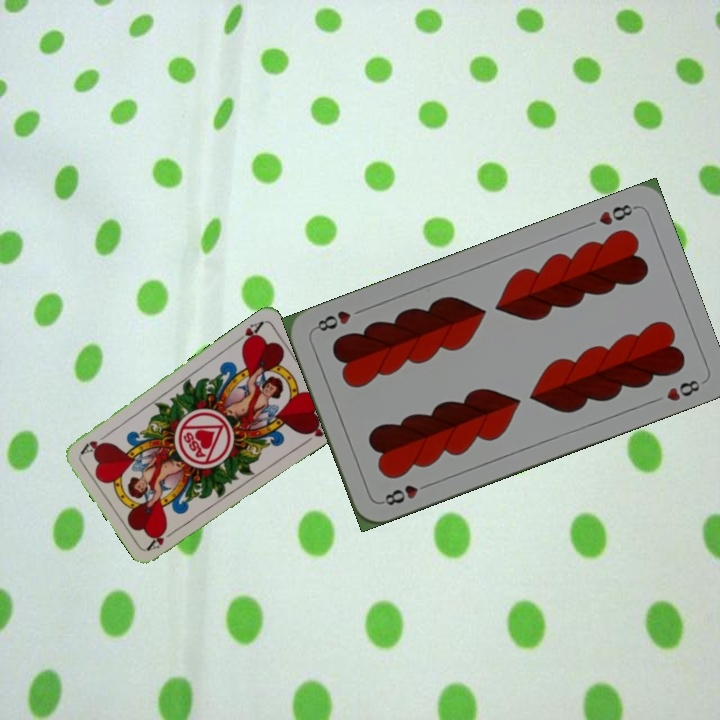H8: (377, 478, 434, 508), (594, 200, 639, 228)
HA: (231, 317, 266, 350), (144, 524, 180, 553)
